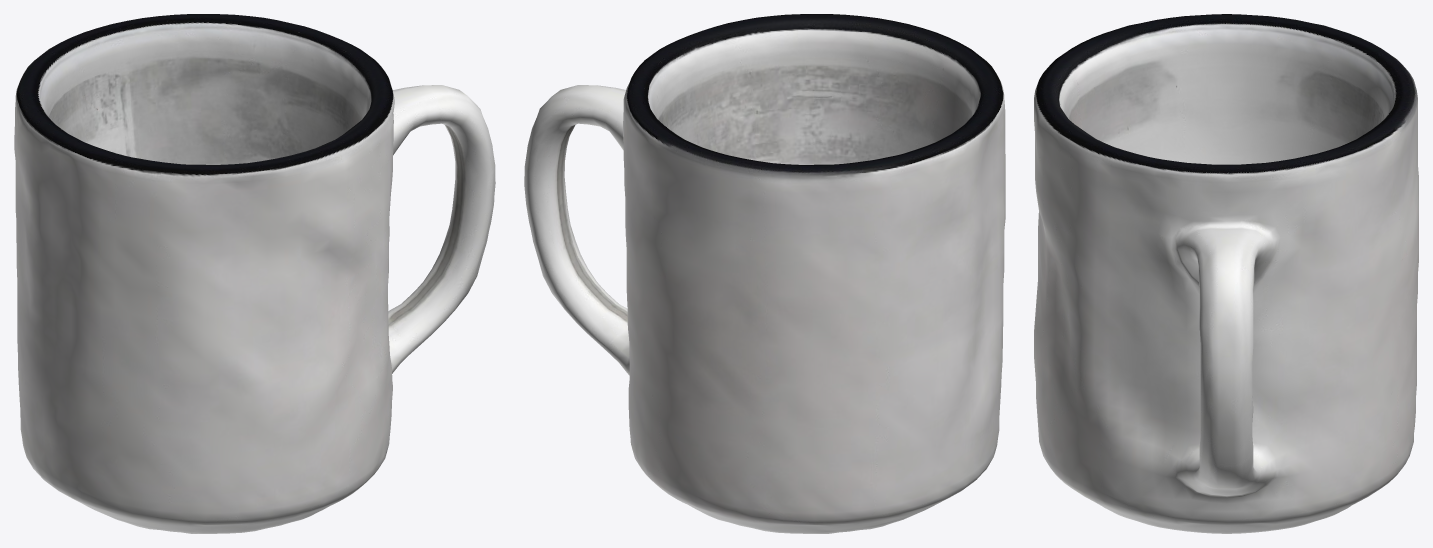
Rendered from mug.glb.
3 views of the same model, side by side, from view 1: azimuth 30°, elevation 25°; view 2: azimuth 150°, elevation 25°; view 3: azimuth 270°, elevation 25° (orthographic).
Parts seen in each view (by area): view 1: tripo_node_936d9867-25ce-4584-ac60-b8bd5944b432; view 2: tripo_node_936d9867-25ce-4584-ac60-b8bd5944b432; view 3: tripo_node_936d9867-25ce-4584-ac60-b8bd5944b432.
Part boxes in pixels (box(x1,y1,x2,y2)): tripo_node_936d9867-25ce-4584-ac60-b8bd5944b432: box(14, 14, 495, 533); tripo_node_936d9867-25ce-4584-ac60-b8bd5944b432: box(524, 14, 1005, 533); tripo_node_936d9867-25ce-4584-ac60-b8bd5944b432: box(1034, 14, 1418, 533).
Bounding box in the file's own units: 0.1164 × 0.095 × 0.0863.
1 material, 1 textured.
